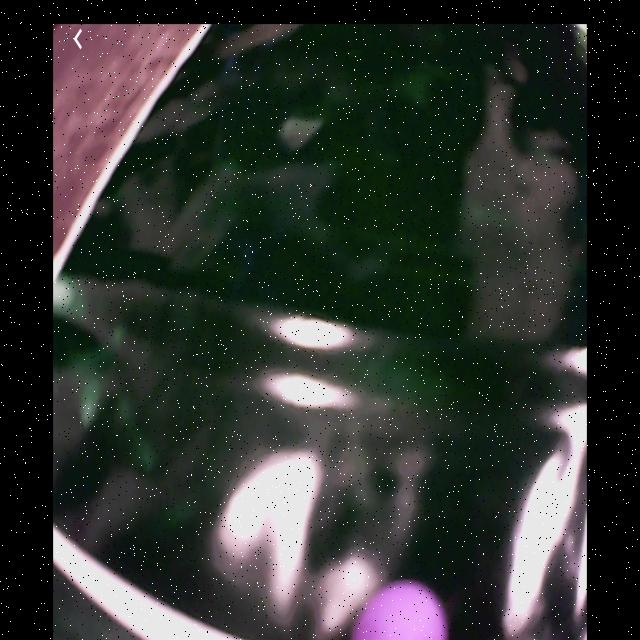ball: (355, 583, 449, 640)
